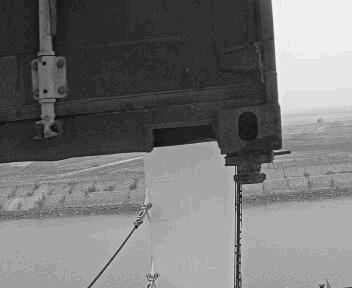twist_lock_1: (145, 182, 246, 249)
